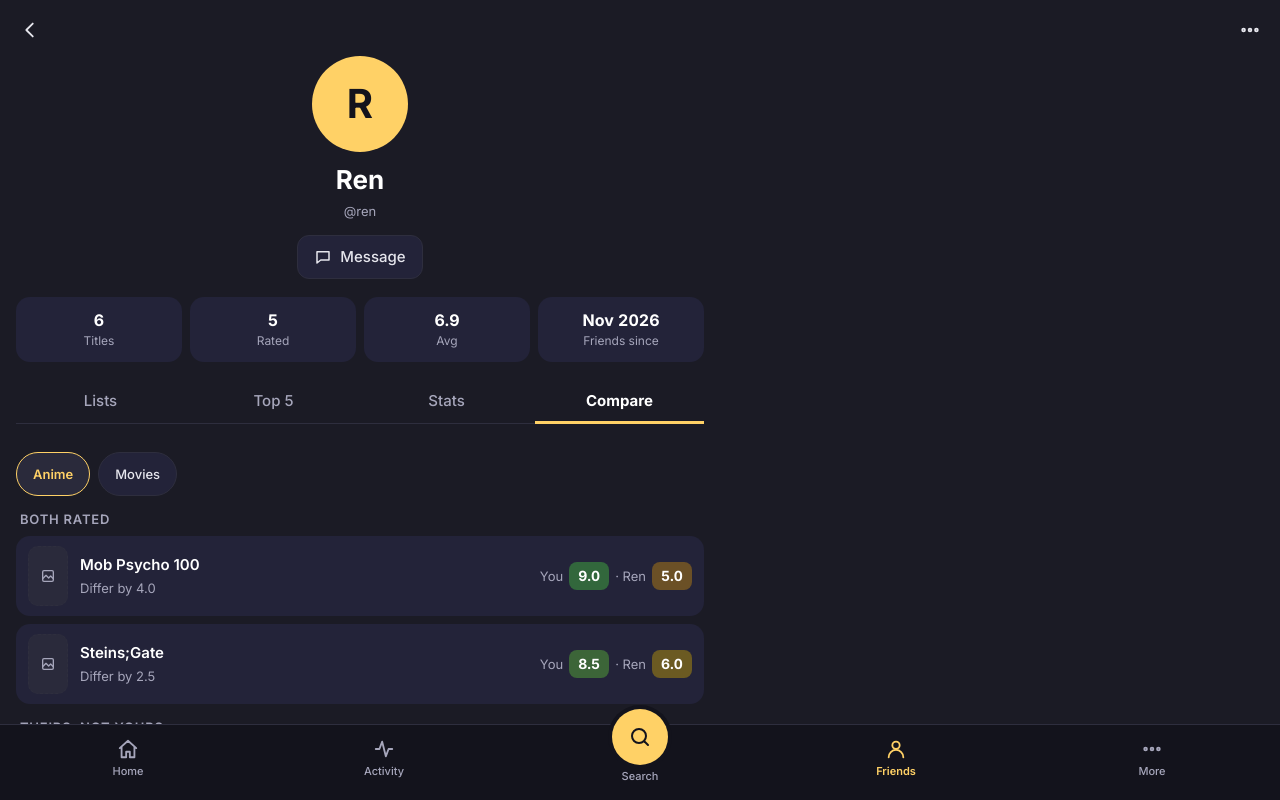
Compare with a friend › switching the category compares that list
Expected: the element "Both rated" is shown, [16, 510, 704, 704]
Click the button "Movies". click: (138, 474)
box: [98, 452, 177, 496]
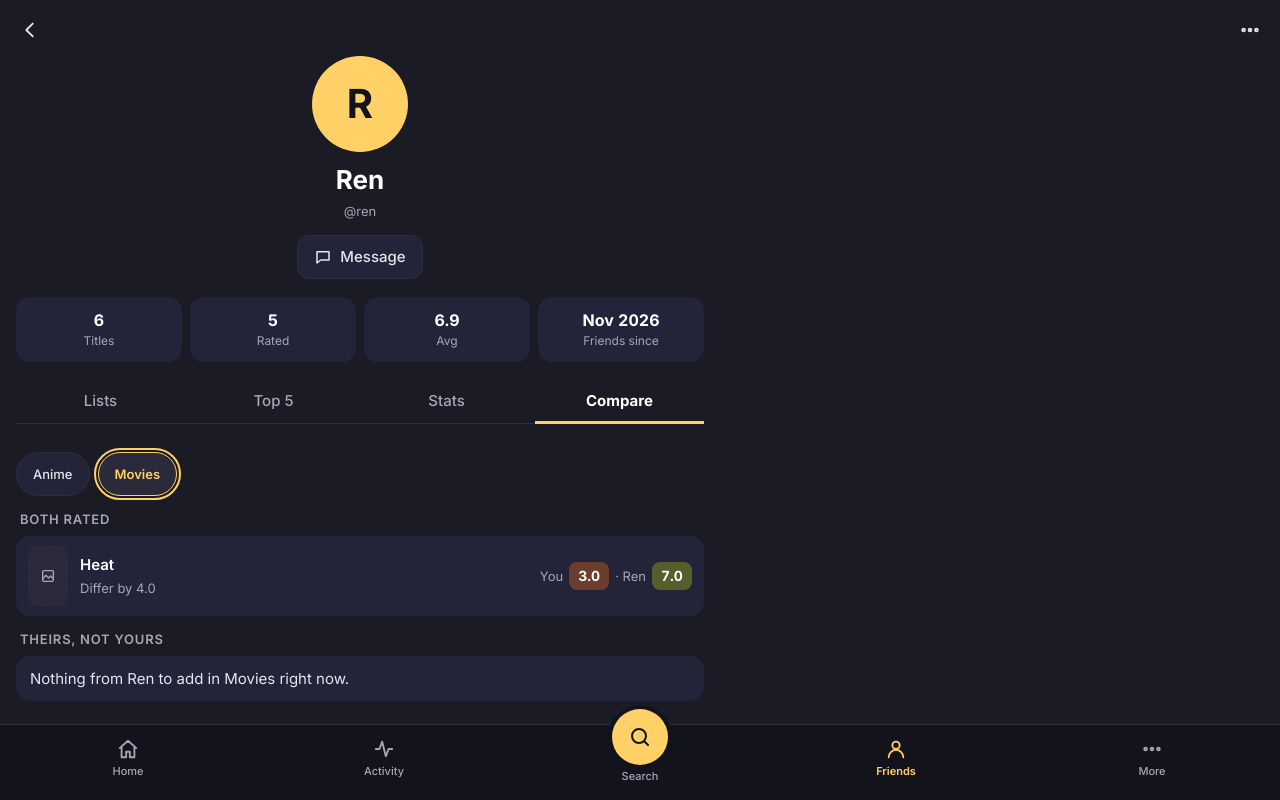
Result: the link with aria-label "Heat: You 3.0, Ren 7.0" is shown at [16, 536, 704, 616]
